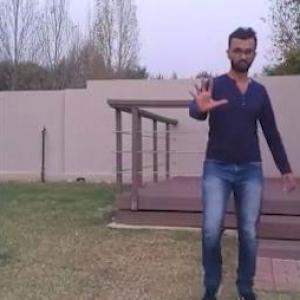follow_hand: (184, 71, 230, 116)
